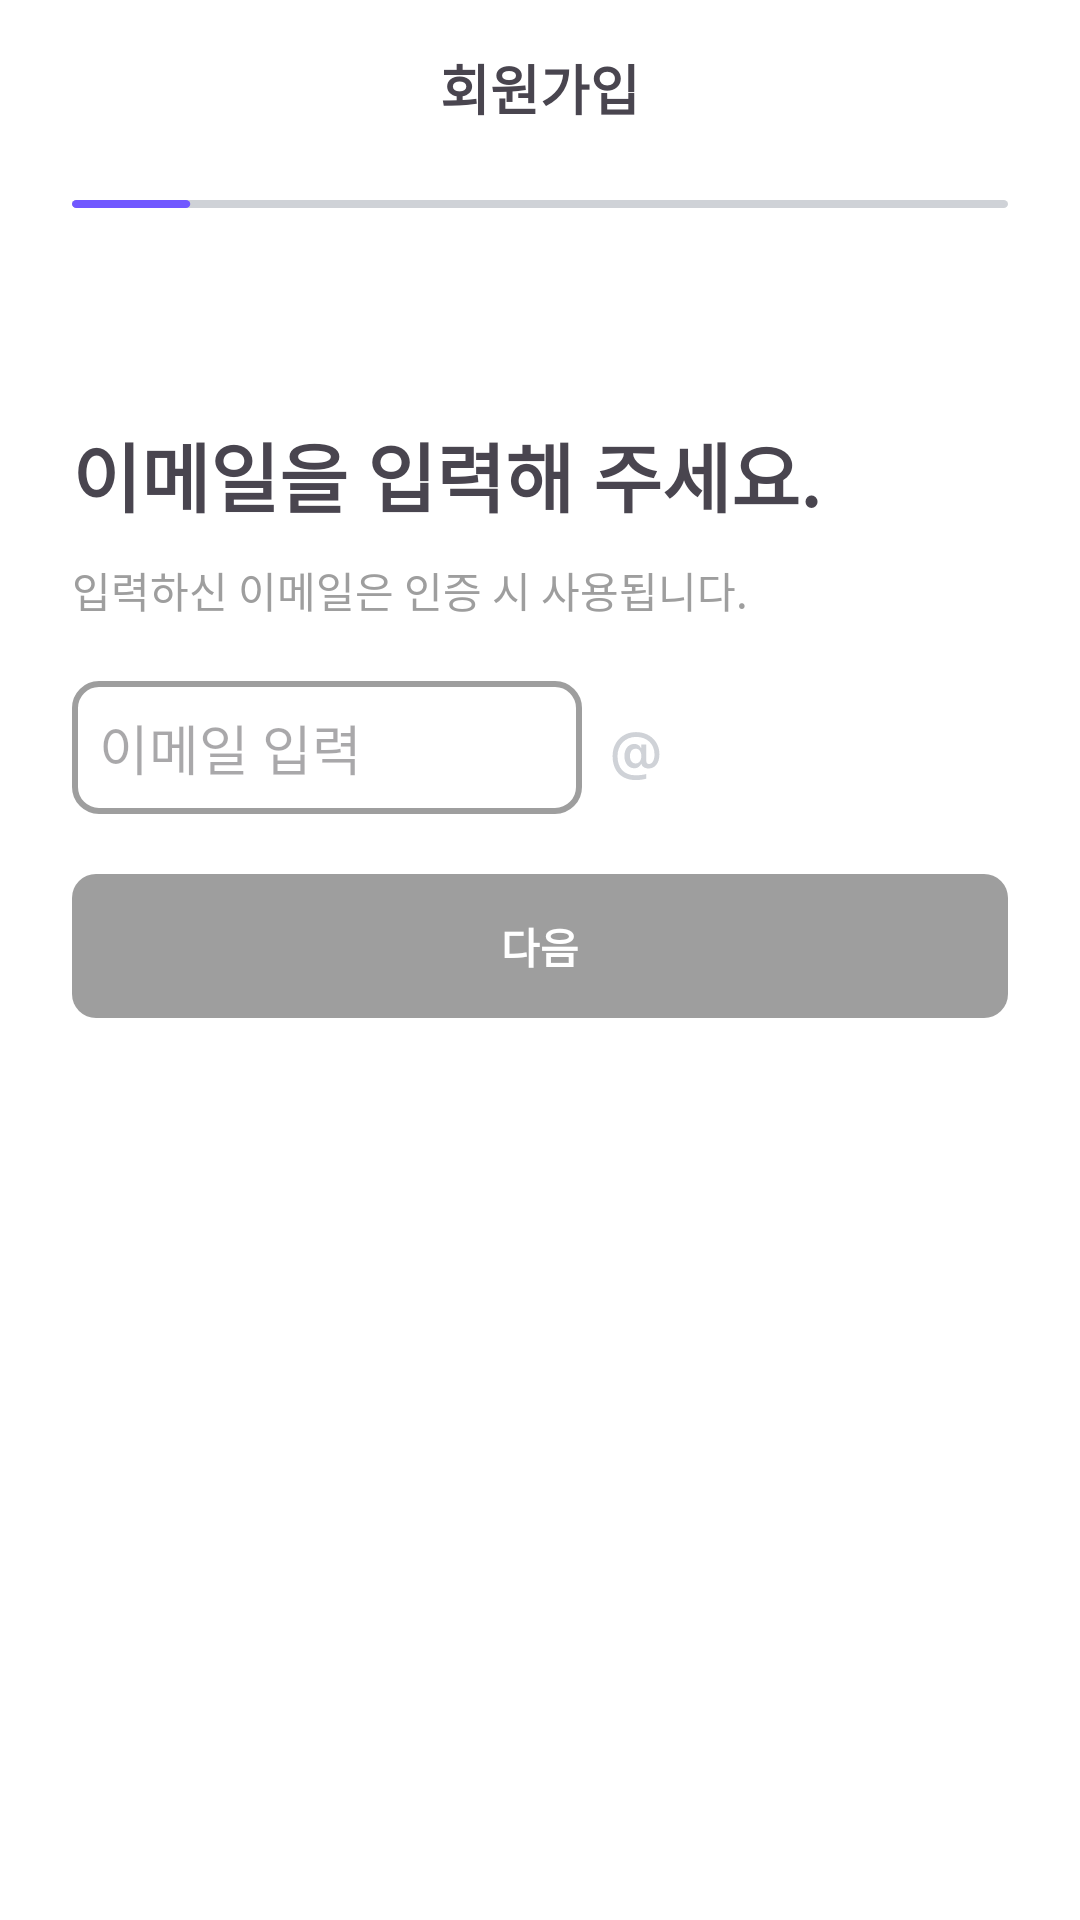

Icon click points for this 1080x1920 phone screenshot, format [x,y]:
emailmark: [636,756]
